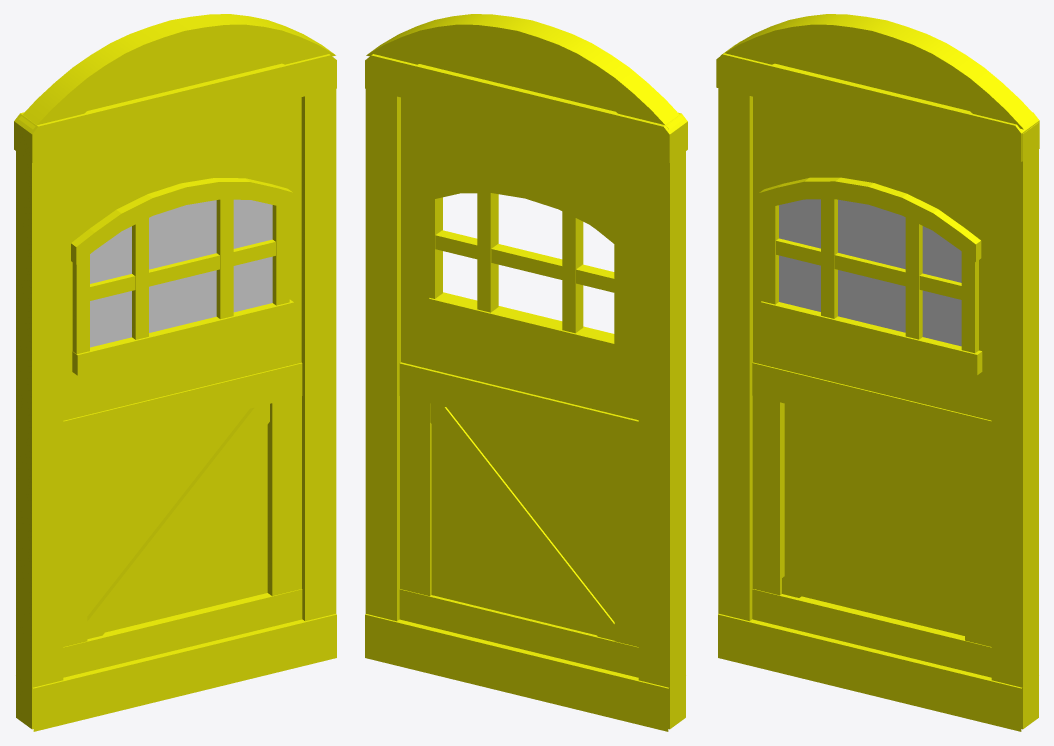
The model's file is Door_1_Round.glb.
The picture shows the model from 3 angles, left to right: view 1: azimuth 30°, elevation 25°; view 2: azimuth 150°, elevation 25°; view 3: azimuth 330°, elevation 25°; orthographic projection.
Parts seen in each view (by area): view 1: Door_1_Round; view 2: Door_1_Round; view 3: Door_1_Round.
Boxes of the visible parts, bbox=[...] form: Door_1_Round: bbox=[14, 14, 336, 731]; Door_1_Round: bbox=[365, 14, 687, 731]; Door_1_Round: bbox=[716, 14, 1039, 731].
Bounding box in the file's own units: 1.12 × 2.32 × 0.1207.
Materials: 2 (1 with a texture image).
